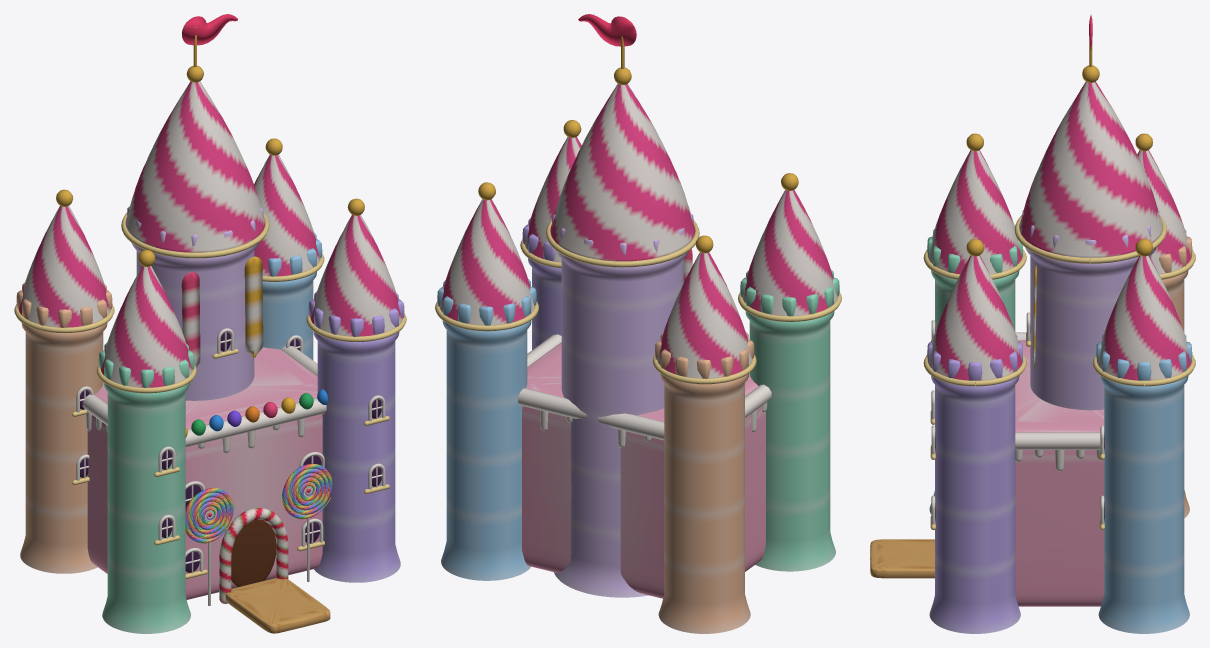
File: castle.glb
The picture shows the model from 3 angles, left to right: view 1: azimuth 30°, elevation 25°; view 2: azimuth 150°, elevation 25°; view 3: azimuth 270°, elevation 25°; orthographic projection. The views are drawn at different scales.
Visible parts, largest first — view 1: Castle; view 2: Castle; view 3: Castle.
Boxes of the visible parts, <box> form: Castle: <box>14,14,406,633</box>; Castle: <box>435,14,841,633</box>; Castle: <box>870,15,1195,633</box>.
Bounding box in the file's own units: 3.96 × 6.85 × 3.66.
